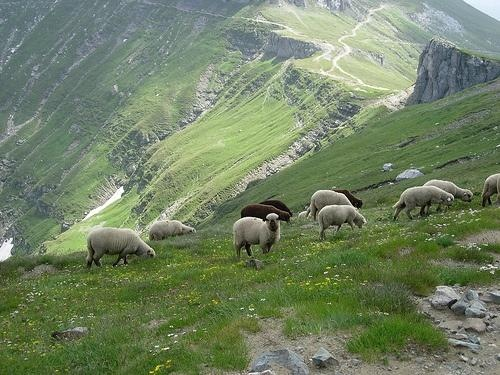sheep: (87, 227, 157, 269), (235, 214, 283, 259), (396, 186, 454, 220), (319, 205, 367, 238), (426, 179, 474, 211), (308, 191, 356, 220), (242, 204, 293, 227), (151, 219, 193, 241), (482, 173, 500, 209)
